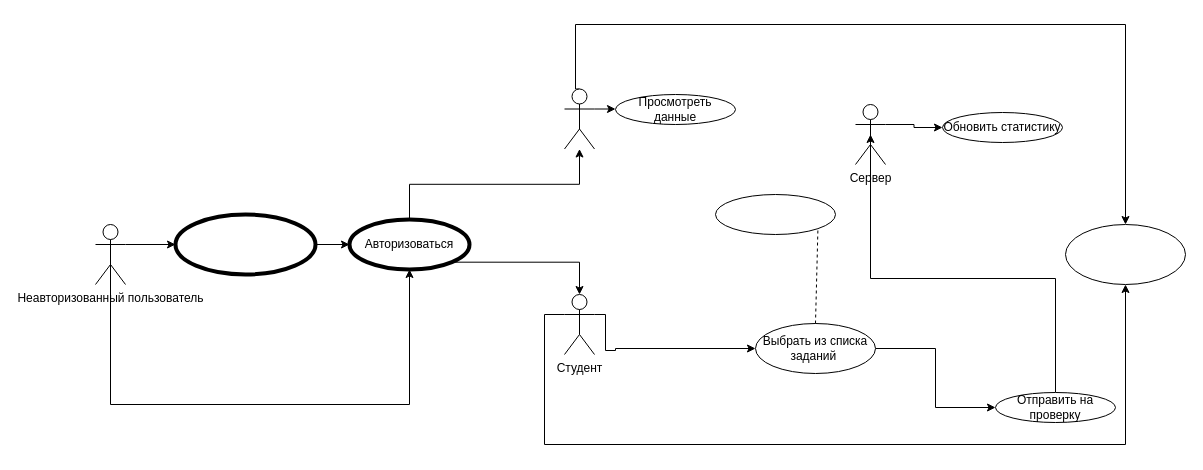
This 1203x470 diagram has some shape labels left out. Here are the shapes that lost their labels. From the top down, the box of each, then its label:
(564, 88, 594, 149): Преподаватель
(714, 194, 836, 234): Сгенирировать список заданий
(173, 212, 317, 276): Зарегистрироваться
(1064, 224, 1186, 284): Выйти
